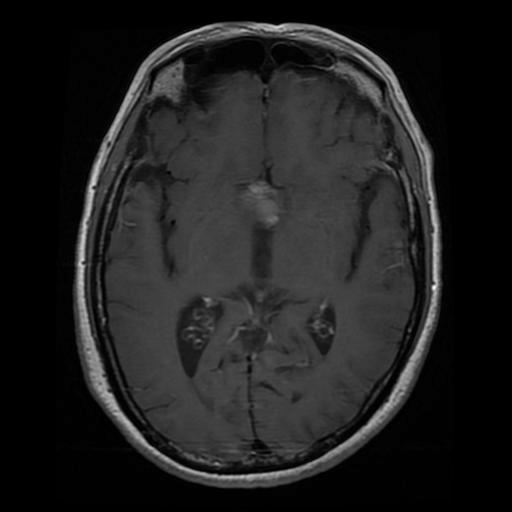Tumour-Pituitary: (244, 178, 283, 228)
